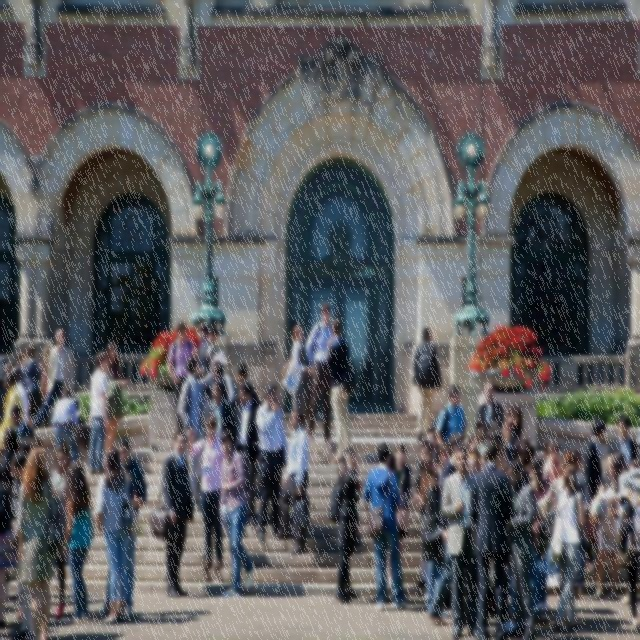pessoa: (468, 436, 516, 640), (96, 433, 148, 620), (17, 443, 66, 640), (426, 429, 473, 626), (438, 443, 481, 640), (148, 426, 196, 600), (94, 444, 138, 626), (362, 440, 408, 612), (46, 593, 214, 639), (549, 462, 588, 636), (502, 458, 538, 639), (186, 413, 227, 571), (218, 426, 255, 600), (270, 406, 311, 557), (177, 354, 216, 511), (62, 458, 97, 626), (254, 379, 290, 542), (418, 450, 452, 620), (590, 452, 627, 600), (8, 448, 36, 639), (26, 326, 77, 430), (230, 378, 262, 528), (304, 300, 336, 444), (335, 446, 363, 605), (322, 316, 352, 464), (10, 434, 33, 622), (48, 442, 72, 622), (580, 416, 607, 571), (385, 441, 413, 590), (530, 603, 636, 639), (618, 458, 640, 630), (410, 326, 442, 444), (415, 440, 440, 589), (569, 447, 592, 602), (611, 448, 632, 606), (167, 320, 194, 442), (0, 460, 18, 631), (87, 348, 111, 476), (103, 338, 129, 456), (540, 448, 578, 524), (280, 322, 312, 410), (200, 378, 237, 451), (528, 455, 553, 548), (433, 382, 468, 447), (51, 384, 79, 462), (20, 342, 46, 419), (606, 412, 640, 469), (0, 372, 24, 451), (415, 426, 440, 496), (476, 378, 506, 434), (0, 424, 22, 498), (8, 364, 30, 426), (234, 362, 260, 412), (542, 436, 564, 492), (8, 402, 32, 450), (506, 404, 524, 464), (0, 348, 25, 388), (196, 320, 212, 380), (196, 322, 216, 368), (210, 360, 230, 404), (434, 441, 452, 488), (42, 346, 52, 430), (517, 436, 537, 476), (474, 414, 488, 456), (204, 343, 218, 378), (466, 432, 482, 458), (486, 424, 504, 446), (495, 444, 508, 472), (467, 452, 482, 476), (20, 432, 32, 456), (386, 449, 396, 474), (479, 450, 489, 470)
